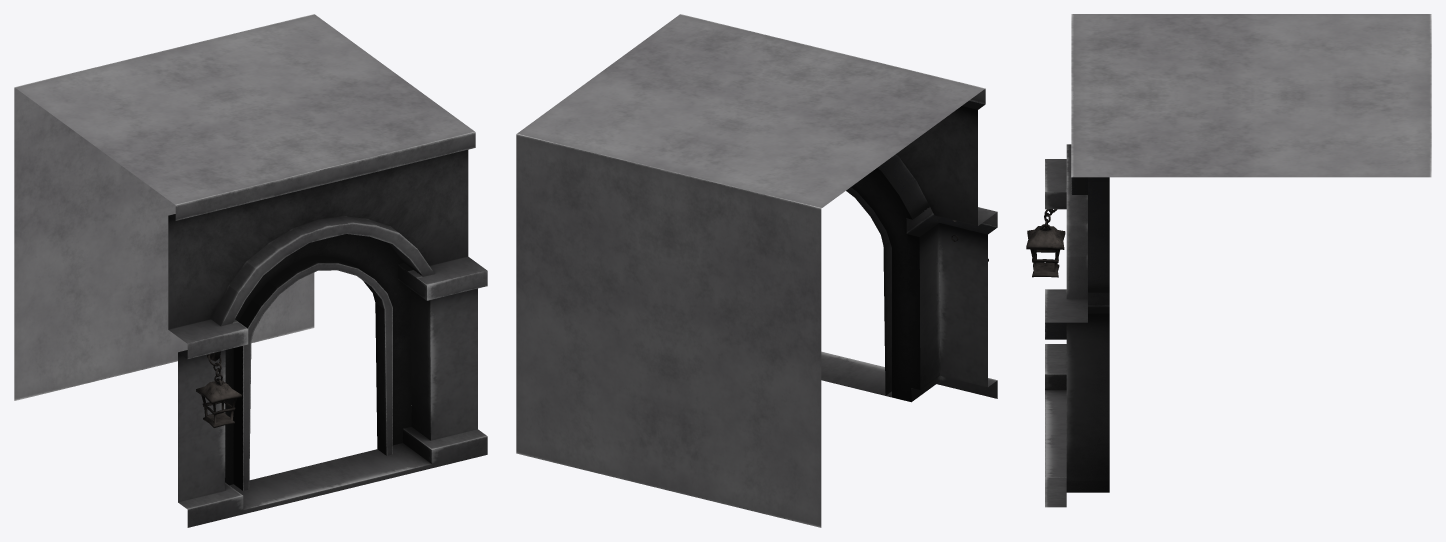
File: DoorExit.fbx
The picture shows the model from 3 angles, left to right: view 1: azimuth 30°, elevation 25°; view 2: azimuth 150°, elevation 25°; view 3: azimuth 270°, elevation 25°; orthographic projection. The views are drawn at different scales.
Parts seen in each view (by area): view 1: Ground_LP.005_Cube.001; view 2: Ground_LP.005_Cube.001; view 3: Ground_LP.005_Cube.001.
Boxes of the visible parts, left/top/right/bottom form: Ground_LP.005_Cube.001: left=14, top=14, right=487, bottom=527; Ground_LP.005_Cube.001: left=516, top=14, right=997, bottom=527; Ground_LP.005_Cube.001: left=1026, top=14, right=1431, bottom=507.
Bounding box in the file's own units: 100 × 100 × 105.
